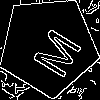M: (23, 21, 83, 81)
